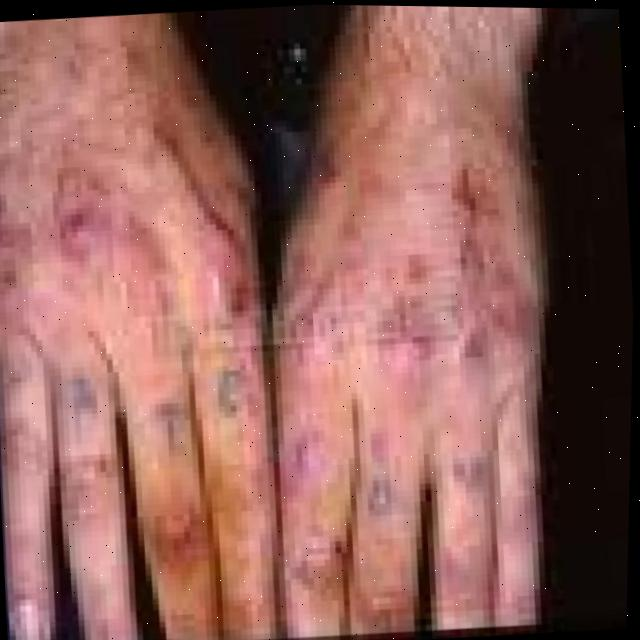Melasma: (282, 166, 553, 611), (0, 150, 247, 423)
